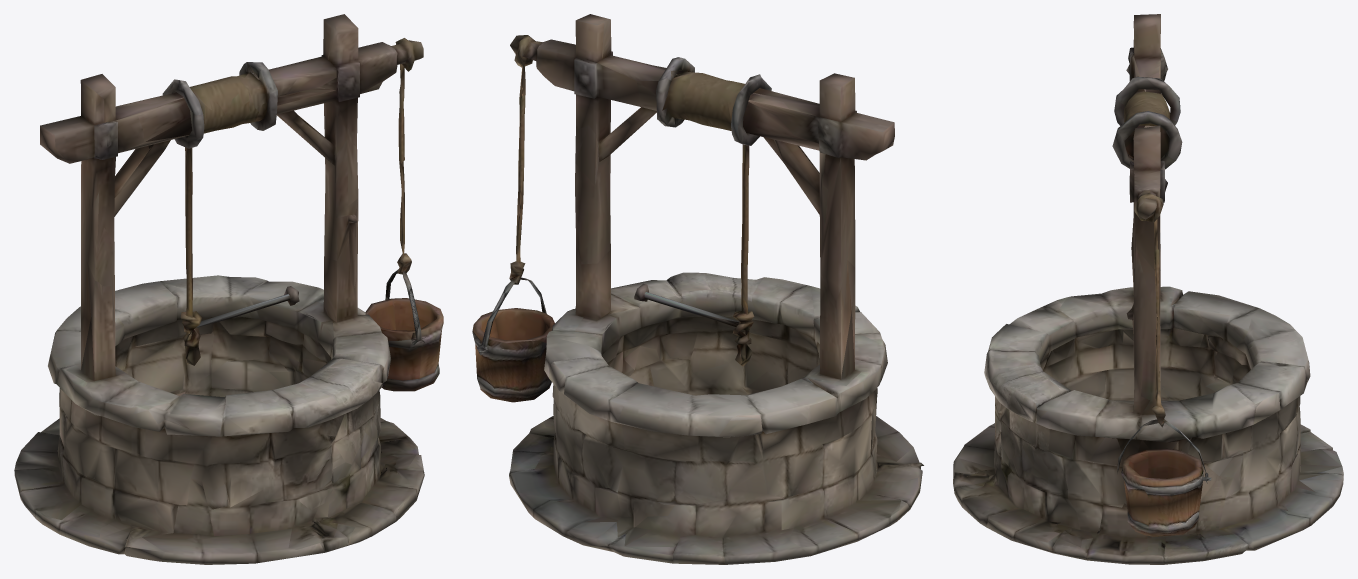
Rendered from well.glb.
3 views of the same model, side by side, from view 1: azimuth 30°, elevation 25°; view 2: azimuth 150°, elevation 25°; view 3: azimuth 270°, elevation 25° (orthographic). The views are drawn at different scales.
Parts seen in each view (by area): view 1: tripo_node_890c9364-bb4b-4291-8e40-1cd92d9c5967; view 2: tripo_node_890c9364-bb4b-4291-8e40-1cd92d9c5967; view 3: tripo_node_890c9364-bb4b-4291-8e40-1cd92d9c5967.
Part boxes in pixels (bbox=[...]): tripo_node_890c9364-bb4b-4291-8e40-1cd92d9c5967: bbox=[14, 14, 443, 564]; tripo_node_890c9364-bb4b-4291-8e40-1cd92d9c5967: bbox=[472, 14, 923, 564]; tripo_node_890c9364-bb4b-4291-8e40-1cd92d9c5967: bbox=[953, 14, 1343, 564].
Size of the model in its own units: 0.9895 by 0.9977 by 0.864.
Materials: 1 (1 with a texture image).
